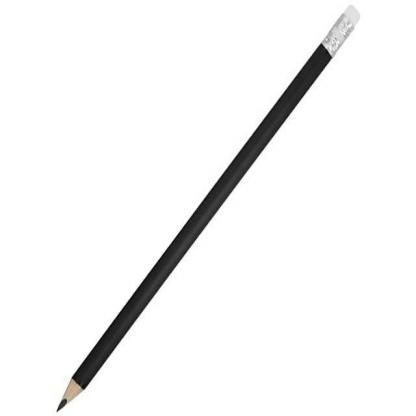pencil: (51, 0, 368, 416)
